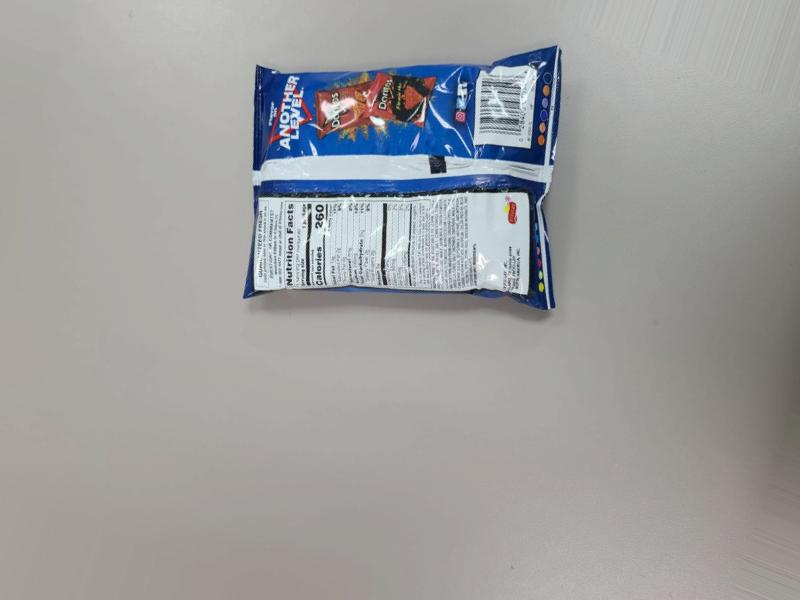doritos: (249, 59, 547, 329)
